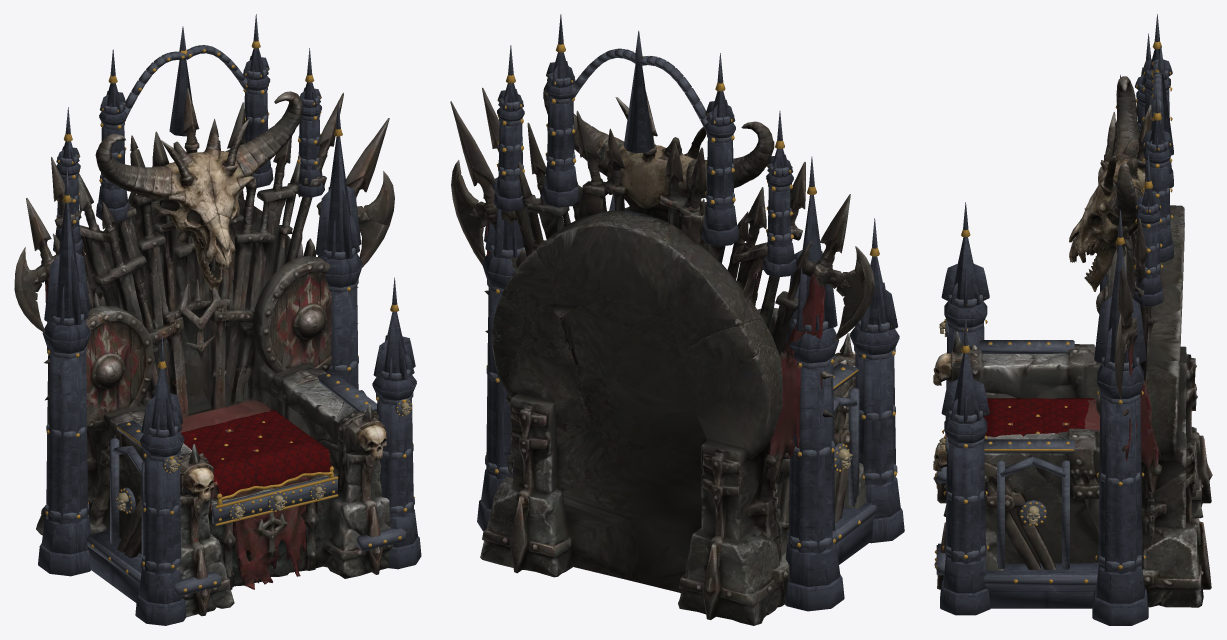
File: souls_throne.glb
The picture shows the model from 3 angles, left to right: view 1: azimuth 30°, elevation 25°; view 2: azimuth 150°, elevation 25°; view 3: azimuth 270°, elevation 25°; orthographic projection. The views are drawn at different scales.
Parts seen in each view (by area): view 1: Souls_Throne, Souls_Throne_GothicSpires, Souls_Throne_Trim_IronGoldBone, Souls_Throne_CrimsonVelvet; view 2: Souls_Throne, Souls_Throne_GothicSpires, Souls_Throne_Trim_IronGoldBone; view 3: Souls_Throne, Souls_Throne_GothicSpires, Souls_Throne_Trim_IronGoldBone, Souls_Throne_CrimsonVelvet.
Part boxes in pixels (bbox=[...]): Souls_Throne: bbox=[14, 88, 394, 617]; Souls_Throne_GothicSpires: bbox=[38, 48, 421, 625]; Souls_Throne_Trim_IronGoldBone: bbox=[45, 14, 414, 596]; Souls_Throne_CrimsonVelvet: bbox=[181, 409, 331, 496]; Souls_Throne: bbox=[450, 81, 874, 625]; Souls_Throne_GothicSpires: bbox=[477, 52, 904, 611]; Souls_Throne_Trim_IronGoldBone: bbox=[485, 14, 897, 548]; Souls_Throne: bbox=[933, 67, 1212, 607]; Souls_Throne_GothicSpires: bbox=[940, 49, 1173, 625]; Souls_Throne_Trim_IronGoldBone: bbox=[934, 14, 1173, 585]; Souls_Throne_CrimsonVelvet: bbox=[983, 398, 1093, 437].
Bounding box in the file's own units: 5.1 × 6.29 × 3.18.
4 materials, 4 textured.
